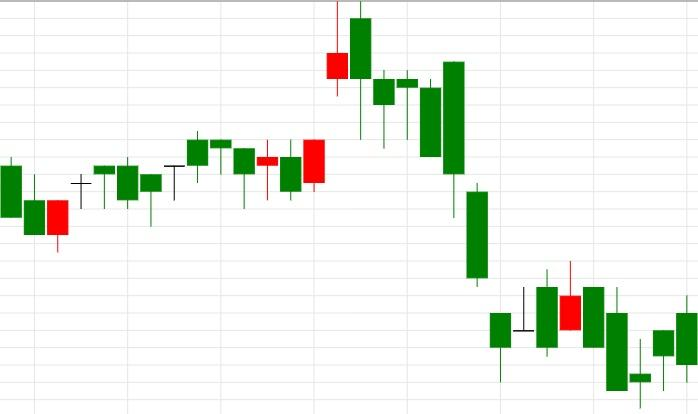bearish_engulfing_fall: (233, 0, 372, 208)
